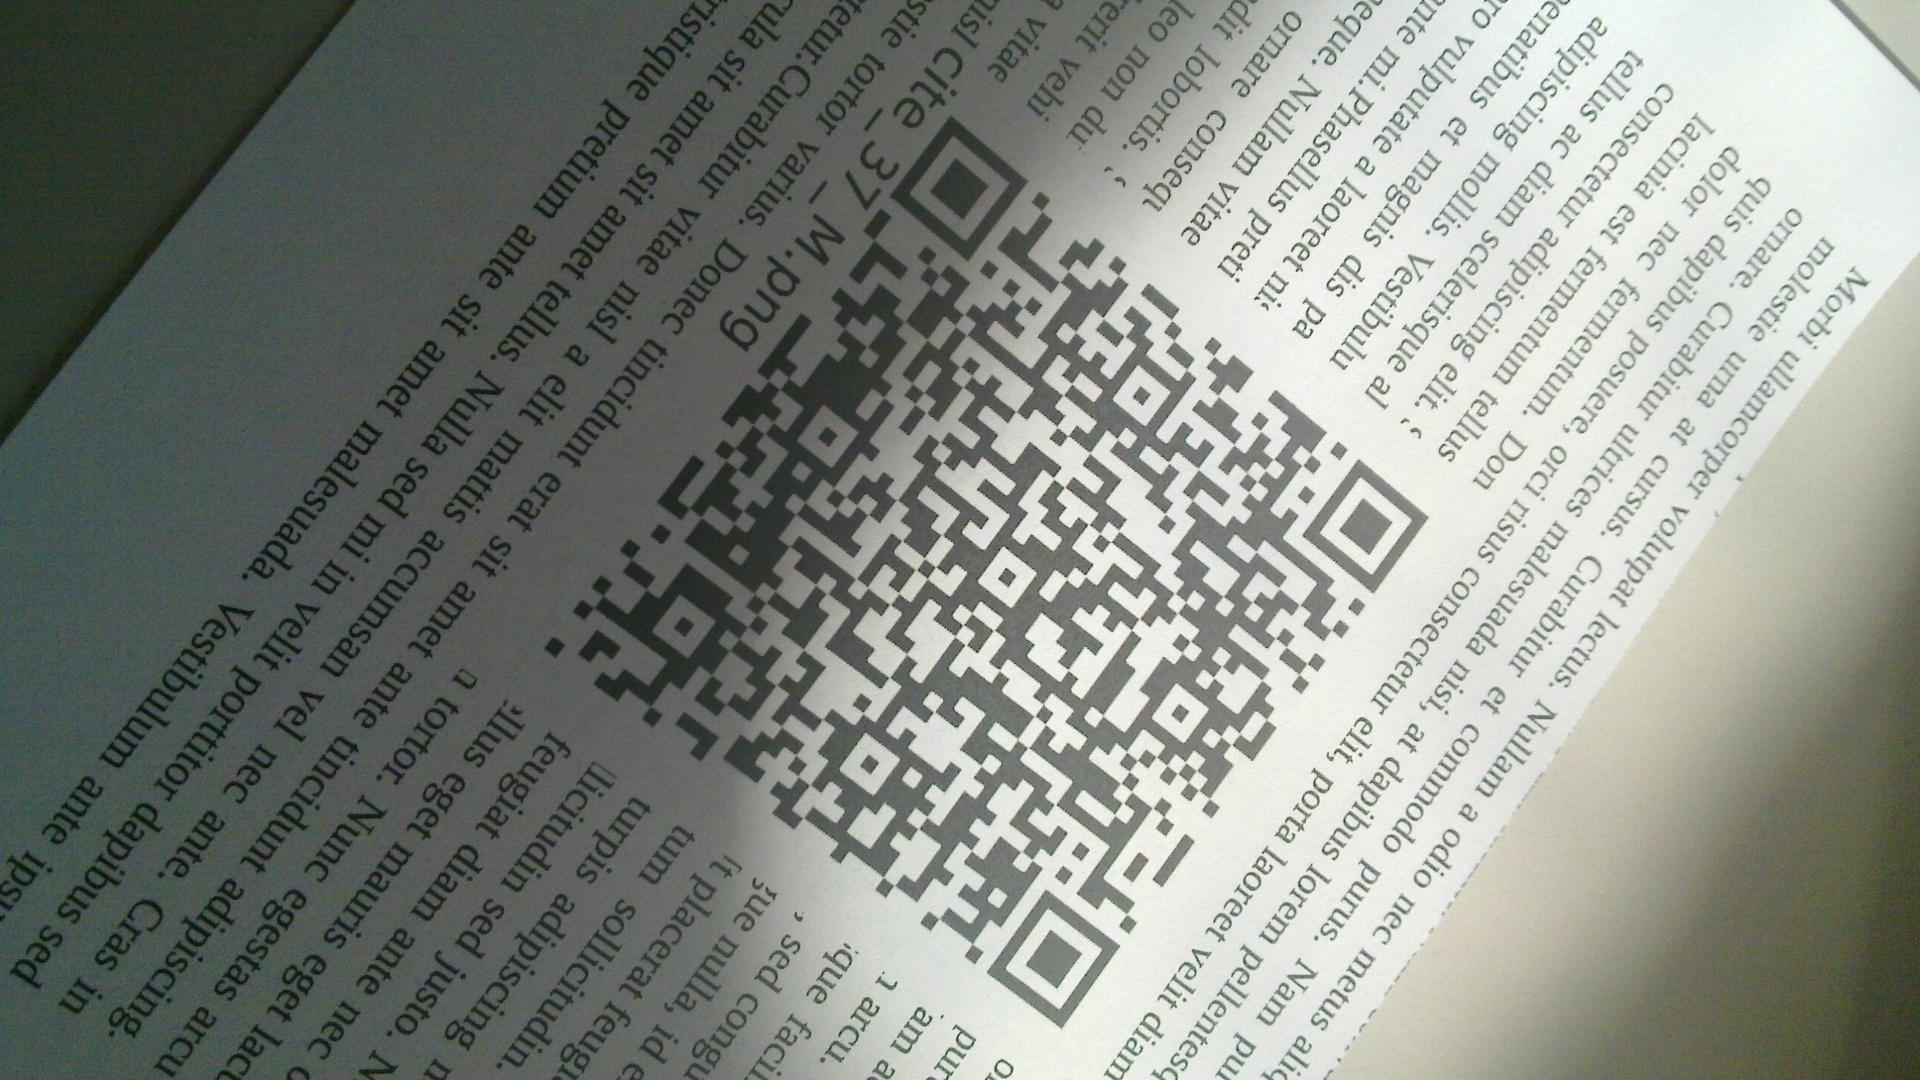Finder pattern: (884, 115, 1030, 255), (981, 889, 1120, 1015), (1305, 456, 1429, 595)
